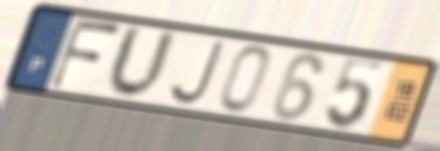0: (215, 42, 277, 116)
5: (323, 54, 391, 133)
6: (269, 50, 330, 124)
F: (46, 15, 125, 93)
J: (166, 38, 227, 107)
U: (104, 22, 181, 103)
